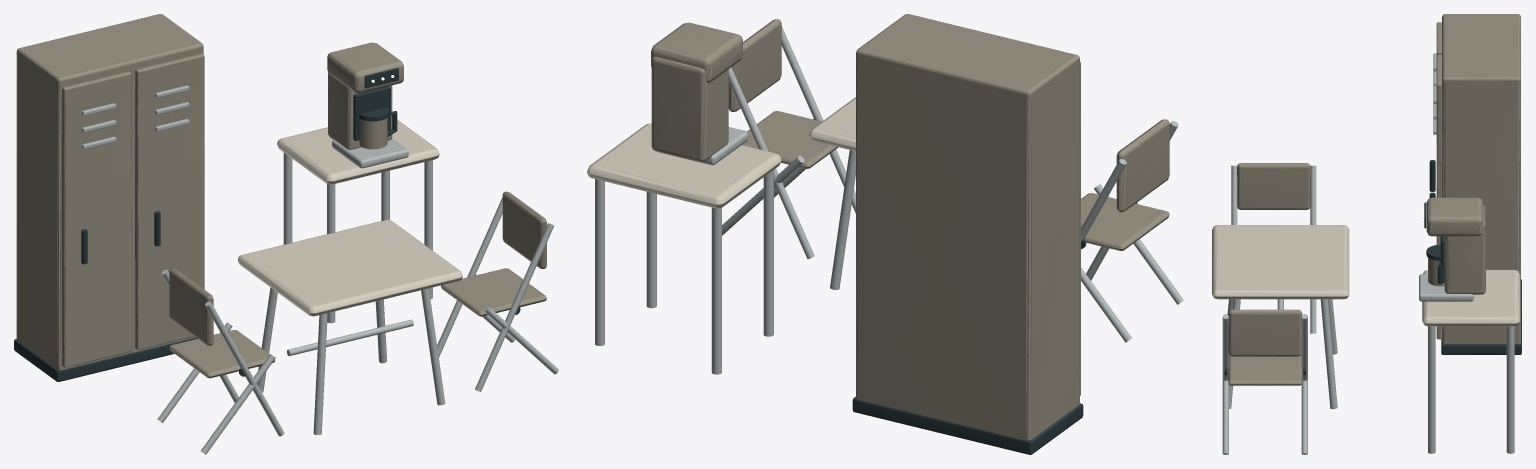
The model's file is 11_lounge_starter_assembly.glb.
3 renders of one model, left to right at view 1: azimuth 30°, elevation 25°; view 2: azimuth 150°, elevation 25°; view 3: azimuth 270°, elevation 25°, orthographic. The views are drawn at different scales.
Parts seen in each view (by area): view 1: 11_starter_lockers__Static, 11_starter_table__Static, 11_starter_chair_right__Static, 11_starter_coffee_machine__Static, 11_starter_chair_left__Static, 11_starter_coffee_counter__Static; view 2: 11_starter_lockers__Static, 11_starter_coffee_counter__Static, 11_starter_coffee_machine__Static, 11_starter_chair_right__Static, 11_starter_chair_left__Static, 11_starter_table__Static; view 3: 11_starter_lockers__Static, 11_starter_table__Static, 11_starter_chair_right__Static, 11_starter_coffee_machine__Static, 11_starter_coffee_counter__Static, 11_starter_chair_left__Static.
Boxes of the visible parts, x1=… form: 11_starter_lockers__Static: x1=14, y1=14, x2=204, y2=381; 11_starter_table__Static: x1=238, y1=220, x2=462, y2=434; 11_starter_chair_right__Static: x1=437, y1=191, x2=558, y2=391; 11_starter_coffee_machine__Static: x1=327, y1=42, x2=408, y2=168; 11_starter_chair_left__Static: x1=157, y1=268, x2=284, y2=454; 11_starter_coffee_counter__Static: x1=277, y1=120, x2=439, y2=323; 11_starter_lockers__Static: x1=852, y1=14, x2=1083, y2=454; 11_starter_coffee_counter__Static: x1=587, y1=123, x2=781, y2=374; 11_starter_coffee_machine__Static: x1=651, y1=22, x2=748, y2=165; 11_starter_chair_right__Static: x1=722, y1=19, x2=855, y2=259; 11_starter_chair_left__Static: x1=1081, y1=119, x2=1183, y2=342; 11_starter_table__Static: x1=809, y1=97, x2=855, y2=289; 11_starter_lockers__Static: x1=1429, y1=14, x2=1521, y2=354; 11_starter_table__Static: x1=1212, y1=225, x2=1349, y2=409; 11_starter_chair_right__Static: x1=1222, y1=309, x2=1307, y2=454; 11_starter_coffee_machine__Static: x1=1419, y1=197, x2=1485, y2=301; 11_starter_coffee_counter__Static: x1=1422, y1=270, x2=1520, y2=453; 11_starter_chair_left__Static: x1=1231, y1=163, x2=1316, y2=333.
Bounding box in the file's own units: 2.35 × 1.78 × 1.8.
